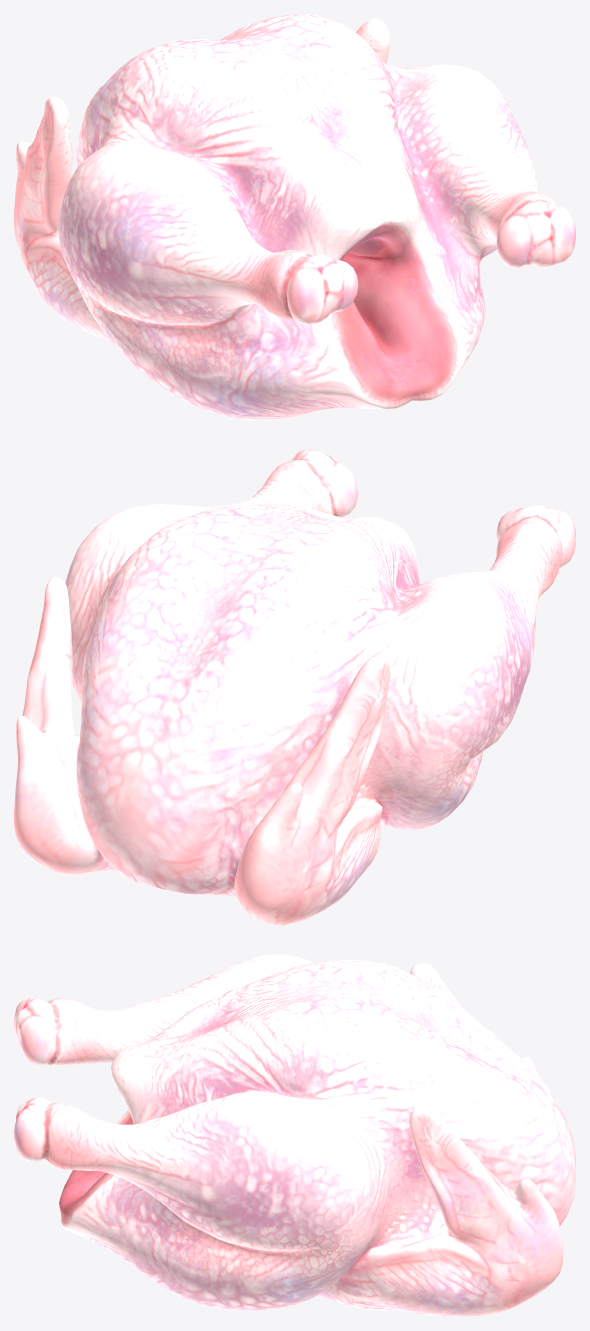
Rendered from raw_chicken.glb.
The picture shows the model from 3 angles, top to bottom: view 1: azimuth 30°, elevation 25°; view 2: azimuth 150°, elevation 25°; view 3: azimuth 270°, elevation 25°; orthographic projection. The views are drawn at different scales.
Parts seen in each view (by area): view 1: dinde_Low:ZBrush_defualt_group; view 2: dinde_Low:ZBrush_defualt_group; view 3: dinde_Low:ZBrush_defualt_group.
Part boxes in pixels (bbox=[...]): dinde_Low:ZBrush_defualt_group: bbox=[14, 14, 575, 420]; dinde_Low:ZBrush_defualt_group: bbox=[14, 449, 575, 925]; dinde_Low:ZBrush_defualt_group: bbox=[14, 954, 575, 1316].
Bounding box in the file's own units: 33.12 × 23.39 × 41.43.
Materials: 1 (1 with a texture image).
